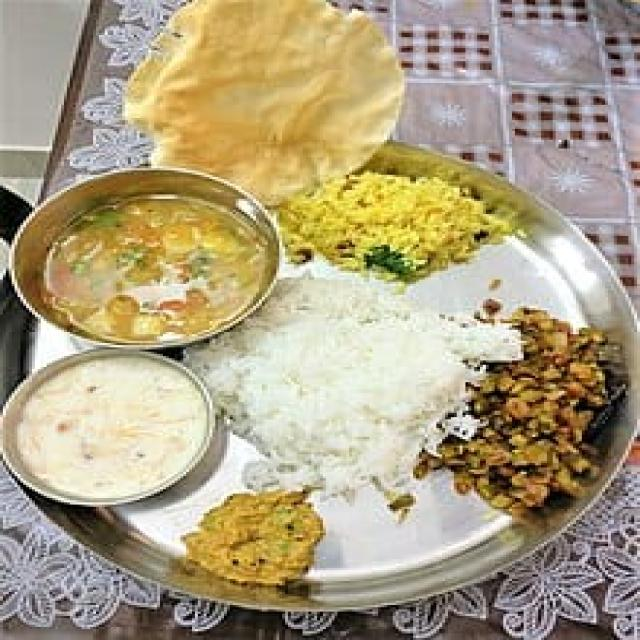veg meals: (3, 2, 640, 605)
